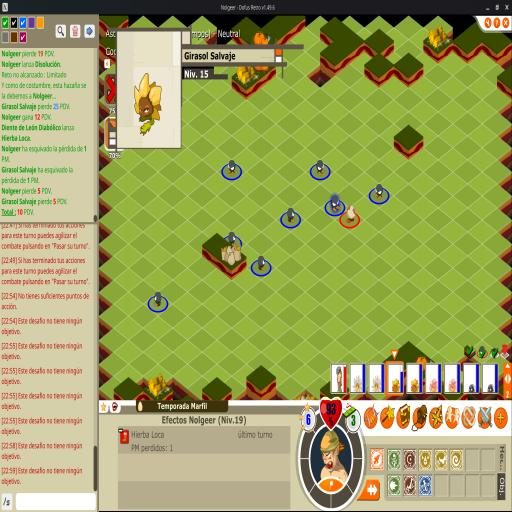Enemigos: (226, 158, 237, 176), (153, 290, 163, 308), (227, 230, 237, 248), (330, 194, 340, 212), (374, 183, 384, 201), (316, 159, 326, 176), (257, 254, 266, 272), (287, 206, 296, 224)
Personaje: (346, 204, 356, 224)
